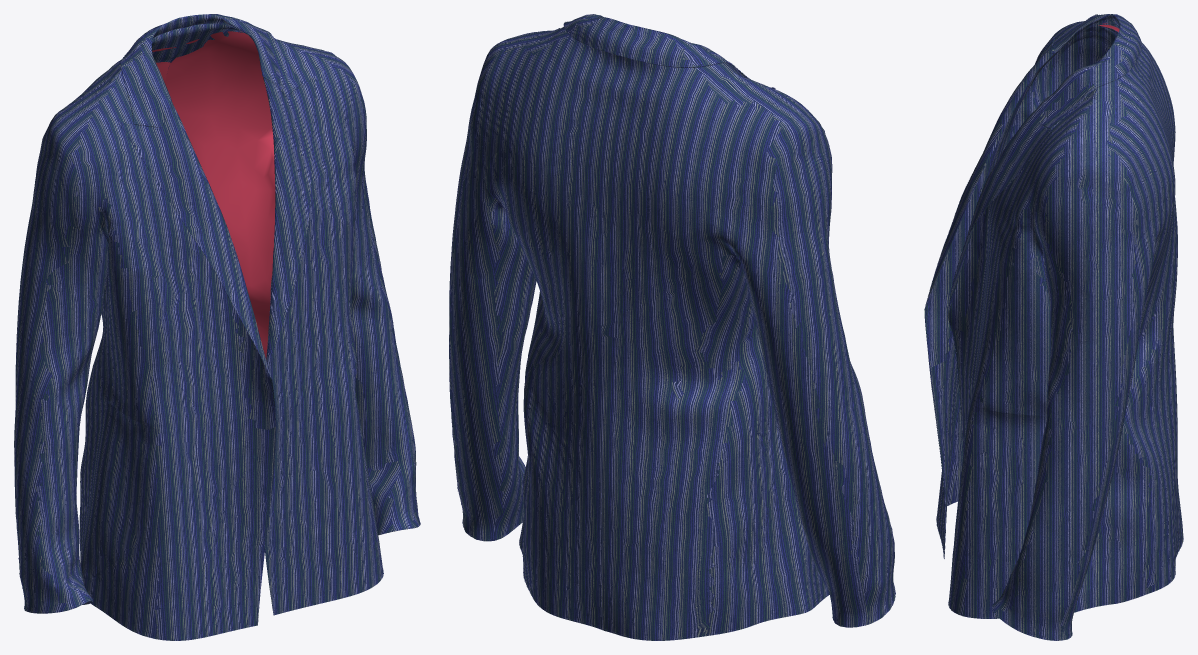
Rendered from blazer.glb.
The picture shows the model from 3 angles, left to right: view 1: azimuth 30°, elevation 25°; view 2: azimuth 150°, elevation 25°; view 3: azimuth 270°, elevation 25°; orthographic projection. The views are drawn at different scales.
Parts seen in each view (by area): view 1: body, left_sleeve, lining, right_sleeve, collar; view 2: body, left_sleeve, right_sleeve, collar; view 3: body, right_sleeve, collar, left_sleeve.
Part boxes in pixels (x1,y1,x2,y2): body: (48, 23, 383, 640); left_sleeve: (14, 122, 108, 613); lining: (152, 31, 275, 359); right_sleeve: (343, 61, 420, 535); collar: (121, 14, 302, 127); body: (479, 26, 829, 640); left_sleeve: (734, 119, 895, 627); right_sleeve: (449, 45, 536, 541); collar: (563, 14, 750, 79); body: (924, 14, 1183, 618); right_sleeve: (992, 159, 1155, 640); collar: (1040, 14, 1141, 129); left_sleeve: (1047, 38, 1108, 96).
Bounding box in the file's own units: 59.58 × 79.71 × 34.63.
Materials: 2 (1 with a texture image).
